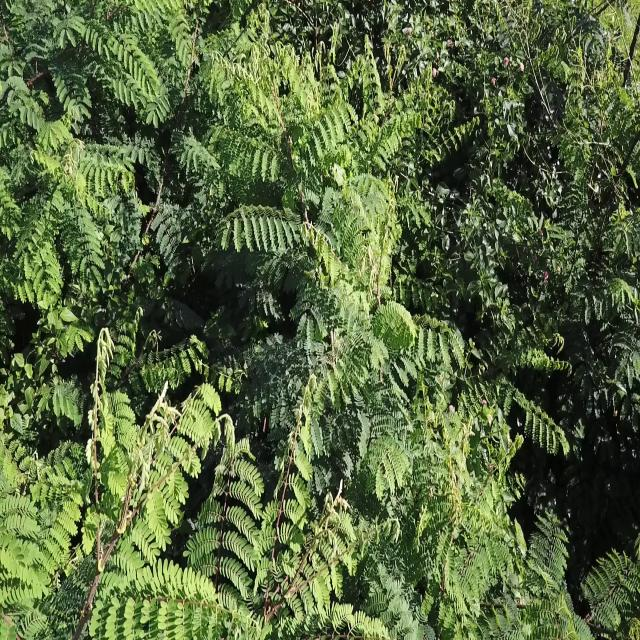Mysore-Thorn-Weed: (0, 375, 259, 640), (0, 0, 197, 320), (187, 372, 389, 640), (198, 49, 386, 333), (464, 496, 637, 640), (412, 298, 568, 451), (395, 450, 502, 624)
